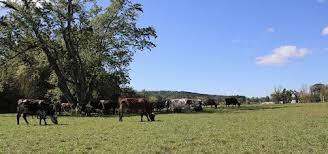cow: (16, 99, 59, 126), (117, 95, 158, 122), (99, 99, 121, 117), (165, 97, 189, 113), (224, 97, 243, 109)
